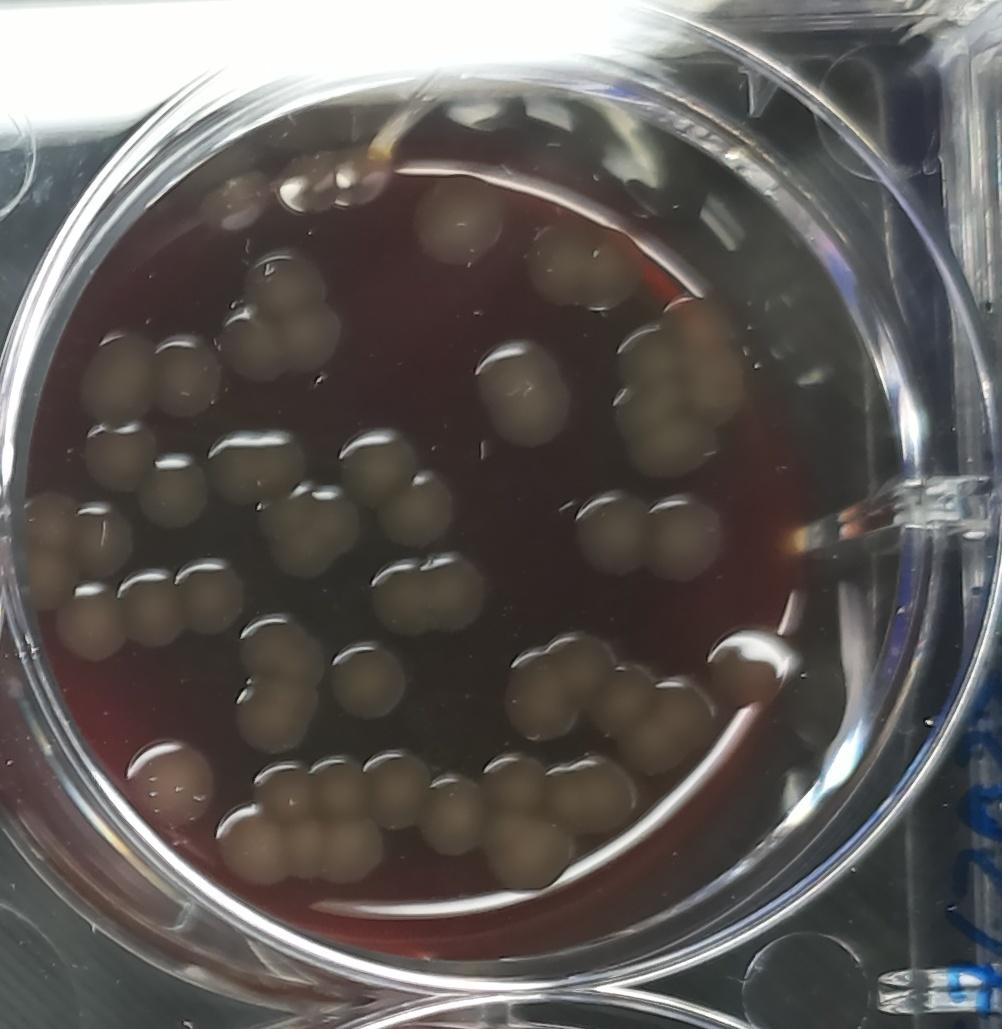vangil: (602, 291, 755, 486), (218, 240, 346, 382), (500, 619, 611, 741), (521, 212, 645, 320), (463, 334, 576, 451), (365, 551, 491, 639), (120, 728, 215, 832), (412, 172, 507, 273), (645, 492, 732, 592), (706, 620, 799, 713), (335, 424, 417, 512), (571, 487, 646, 580), (374, 467, 460, 547), (327, 640, 408, 719), (172, 556, 245, 636)
